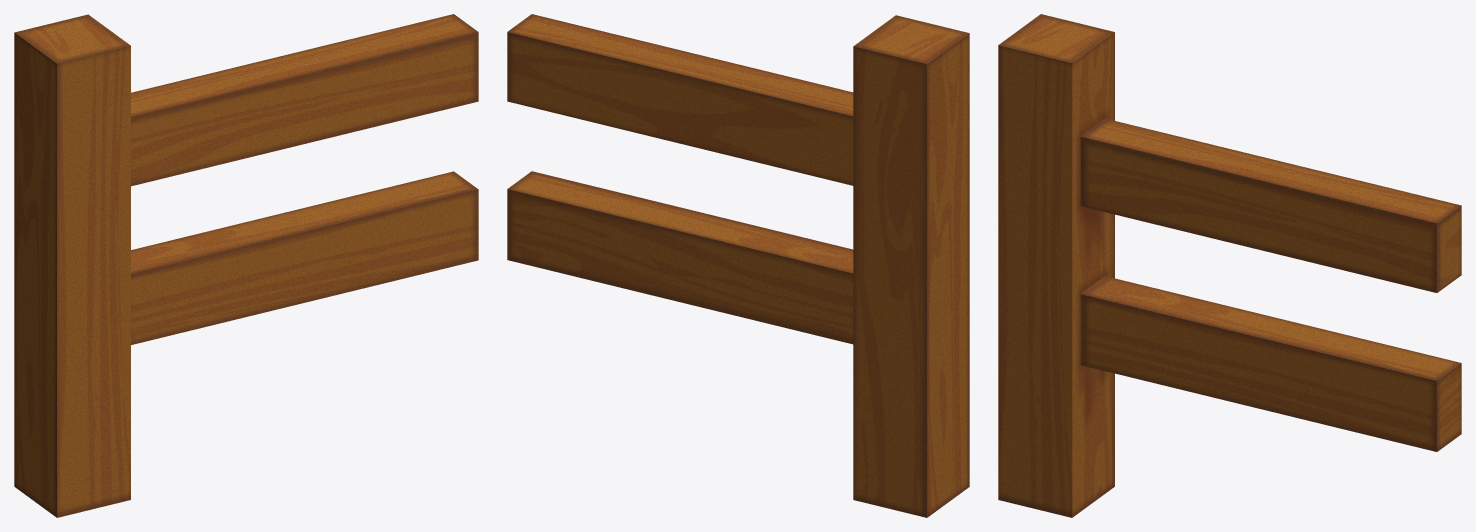
File: cerca_d_fbx.fbx
The picture shows the model from 3 angles, left to right: view 1: azimuth 30°, elevation 25°; view 2: azimuth 150°, elevation 25°; view 3: azimuth 330°, elevation 25°; orthographic projection.
Parts seen in each view (by area): view 1: Box001; view 2: Box001; view 3: Box001.
Boxes of the visible parts, x1,y1,x2,y2 form: Box001: [14, 14, 478, 517]; Box001: [507, 14, 969, 517]; Box001: [998, 14, 1461, 517].
Bounding box in the file's own units: 87.32 × 88.17 × 15.
Materials: 1 (1 with a texture image).
